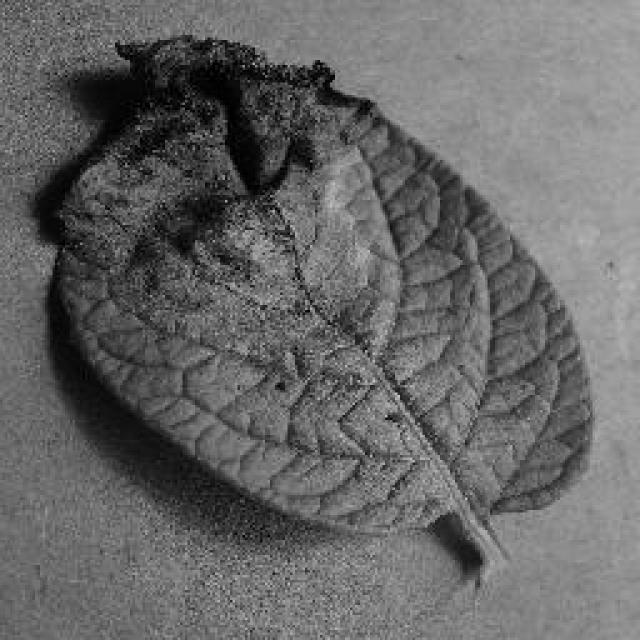Potato: (45, 30, 595, 592)
